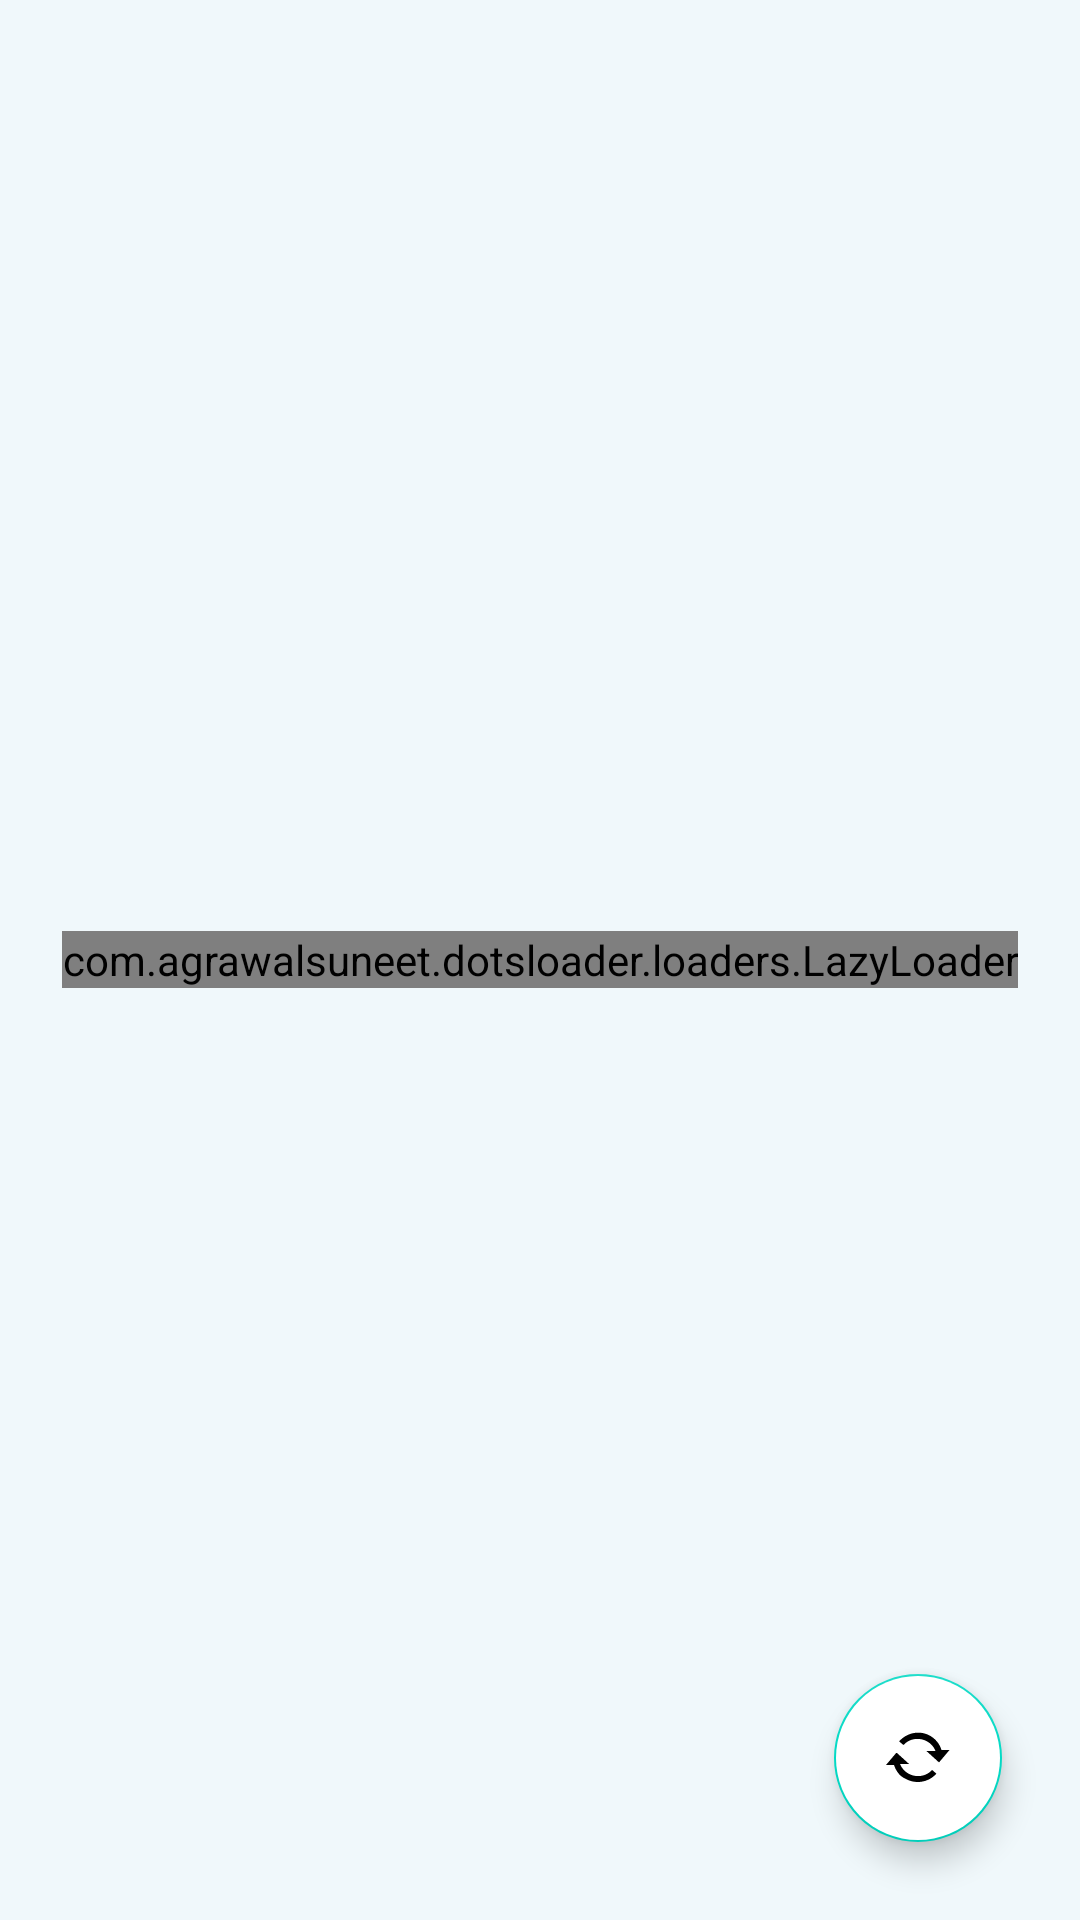

Where icons sit on this 1080 x 1920 app screen, as Rect(x1, y1, x2, y2):
sync: Rect(834, 1674, 1002, 1842)
